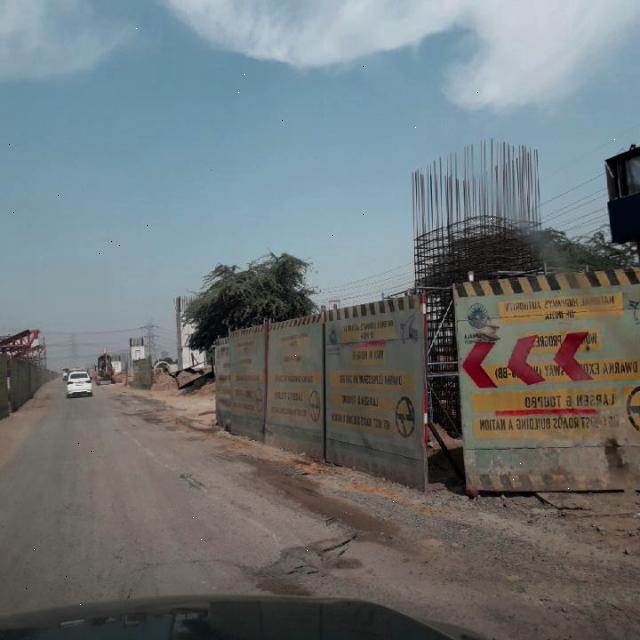D40: (281, 529, 363, 596), (406, 516, 486, 575)
